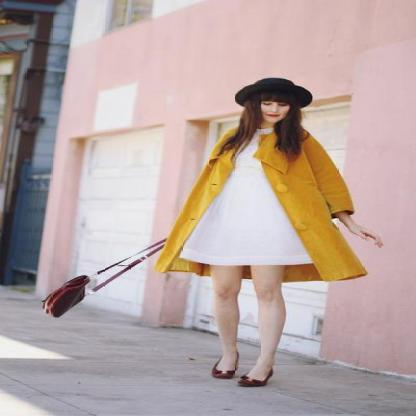bag: (42, 238, 166, 317)
dress: (180, 125, 311, 265)
hat: (237, 78, 311, 107)
jacket: (155, 130, 366, 282)
shoe: (212, 360, 272, 387)
